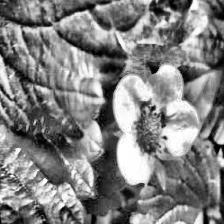Blossom Blight: (130, 100, 170, 160)
